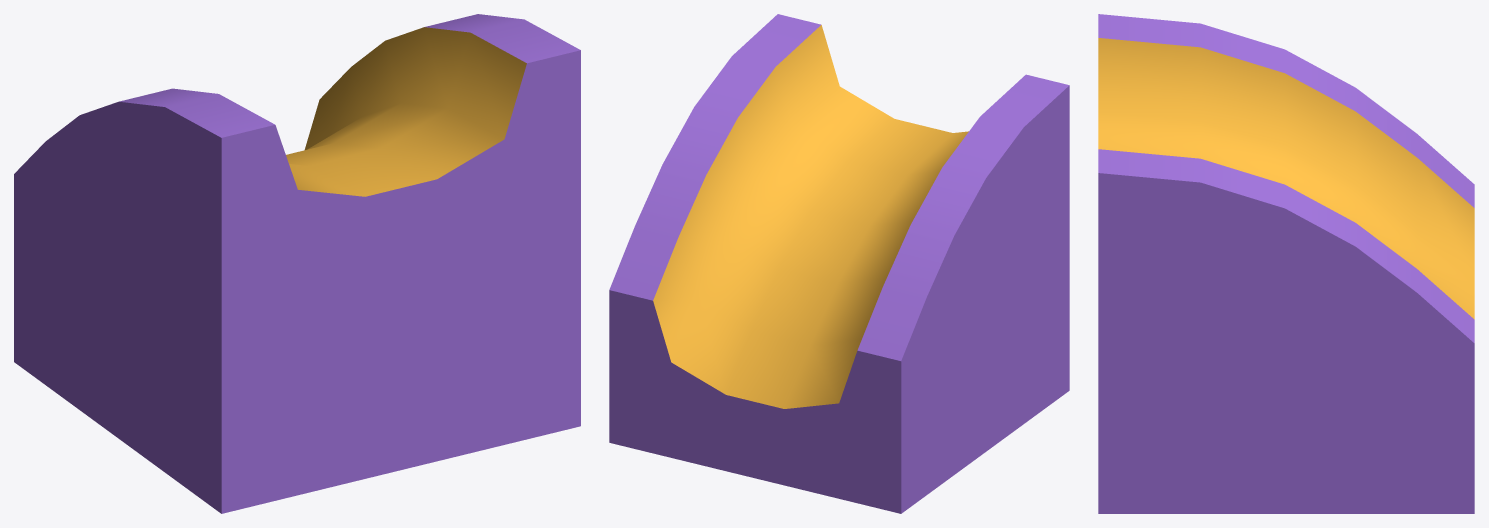
File: ramp-end-solid-c.glb
3 views of the same model, side by side, from view 1: azimuth 30°, elevation 25°; view 2: azimuth 150°, elevation 25°; view 3: azimuth 270°, elevation 25° (orthographic). The views are drawn at different scales.
Parts seen in each view (by area): view 1: ramp-end-solid-c; view 2: ramp-end-solid-c; view 3: ramp-end-solid-c.
Part boxes in pixels (x1,y1,x2,y2): ramp-end-solid-c: [14, 14, 580, 513]; ramp-end-solid-c: [609, 14, 1069, 513]; ramp-end-solid-c: [1098, 14, 1474, 513].
Bounding box in the file's own units: 1 × 1 × 1.
1 material, 1 textured.
